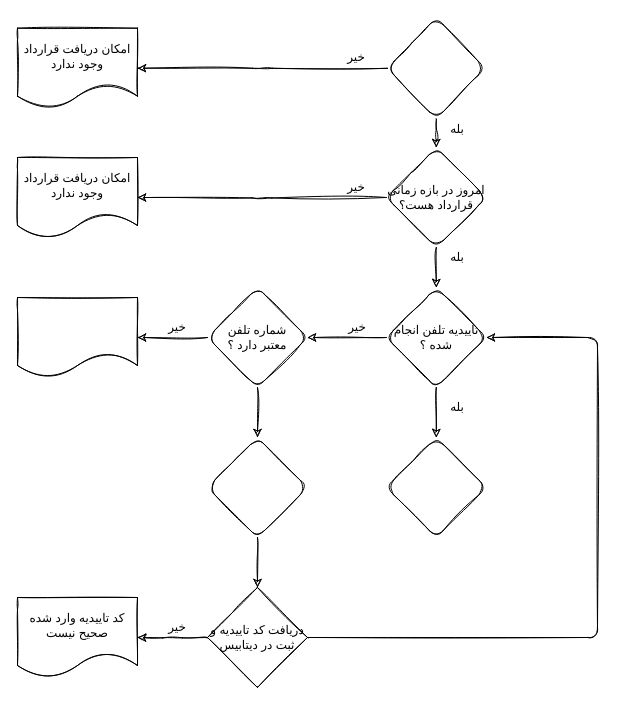
The diagram is 623 pixels wide and 705 high, and some of its shapes have lost their labels. The shapes that lost their labels are listed below. From the top down, each one's box as (x1, y1, x2, y2) in pixels, then its label:
(386, 16, 485, 119): در لیست قرارداد هست ؟
(16, 296, 138, 378): شماره تلفن معتبری در سیستم وجود ندارد. لطفا به شرکت اطلاع دهید
(206, 436, 308, 538): ارسال کد تاییدیه و ثبت زمان ارسال
(385, 436, 486, 538): نمایش قرارداد و زمان تاییدیه
